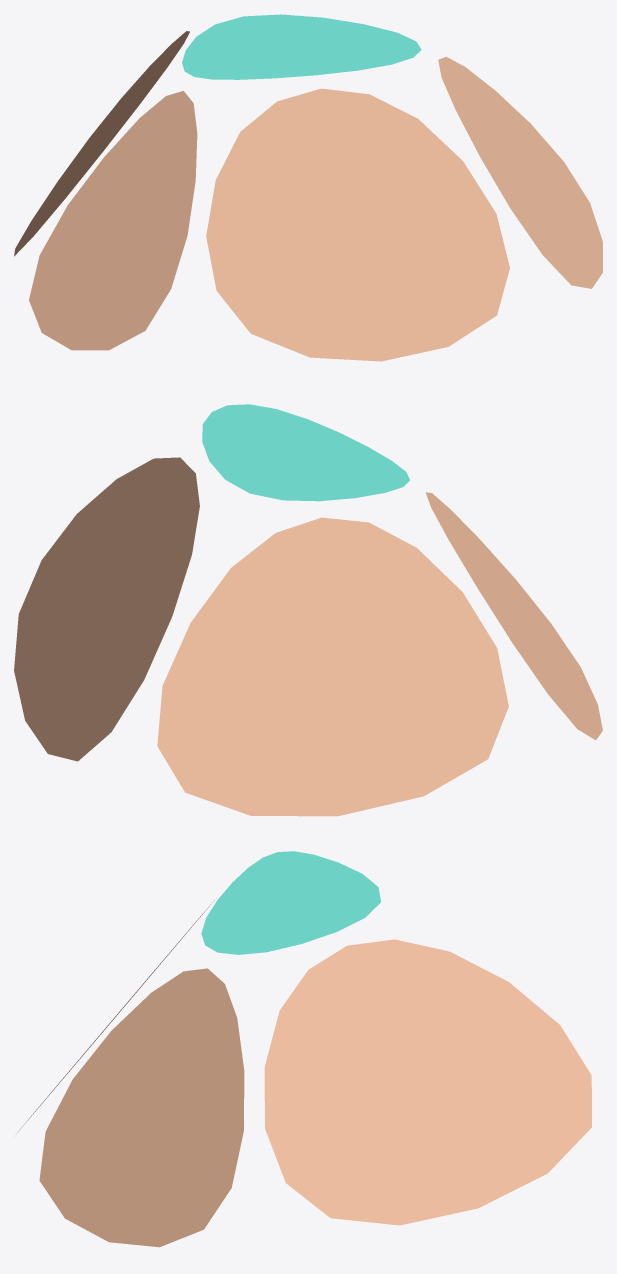
File: rock_smallC.glb
3 renders of one model, top to bottom at view 1: azimuth 30°, elevation 25°; view 2: azimuth 150°, elevation 25°; view 3: azimuth 270°, elevation 25°, orthographic. The views are drawn at different scales.
Parts seen in each view (by area): view 1: rock_smallC; view 2: rock_smallC; view 3: rock_smallC.
Boxes of the visible parts, x1=… form: rock_smallC: x1=14, y1=14, x2=602, y2=361; rock_smallC: x1=14, y1=404, x2=602, y2=816; rock_smallC: x1=17, y1=851, x2=591, y2=1247.
Bounding box in the file's own units: 0.2978 × 0.1227 × 0.2798.
